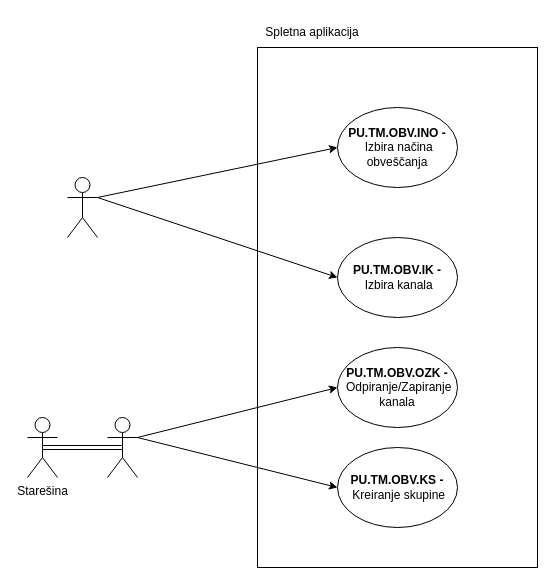
Image size: 555x585. Some labels were removed from this diagram. Here are the shapes that lost their labels. From the top down, the centre of each, then its label:
At pixel 82 207: "Lovec".
At pixel 122 447: "Gospodar".
